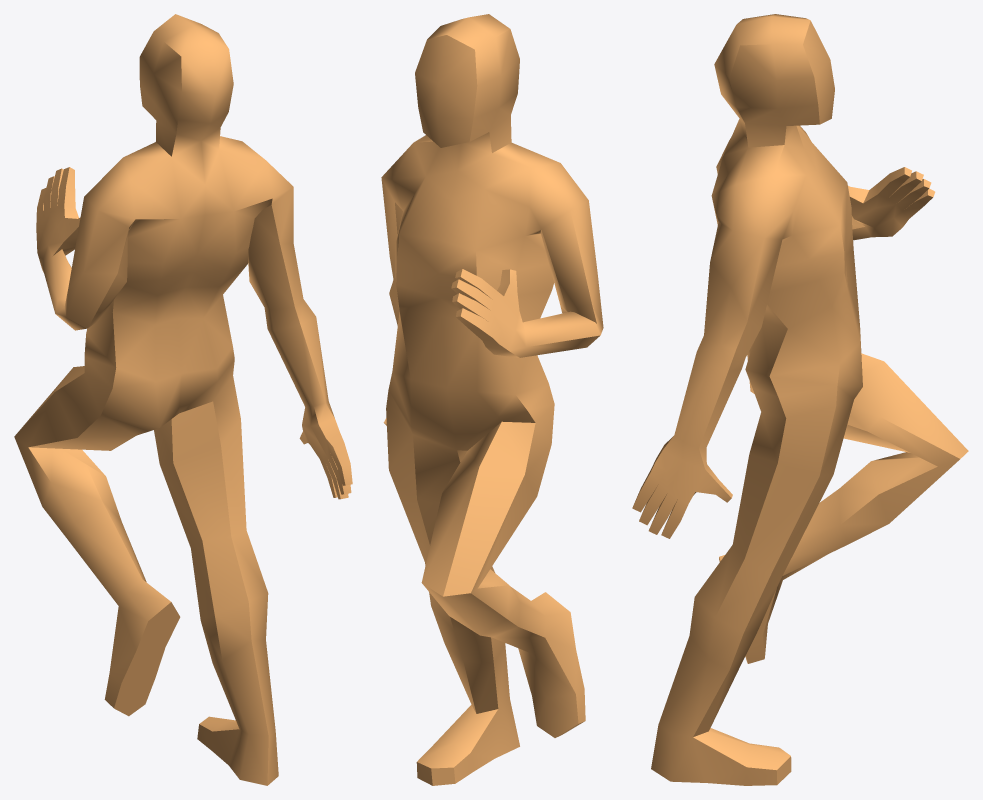
Rendered from human22.obj.
3 renders of one model, left to right at view 1: azimuth 30°, elevation 25°; view 2: azimuth 150°, elevation 25°; view 3: azimuth 270°, elevation 25°, orthographic. The views are drawn at different scales.
Visible parts, largest first — view 1: HumanMale; view 2: HumanMale; view 3: HumanMale.
Boxes of the visible parts, <box> form: HumanMale: <box>14,14,352,785</box>; HumanMale: <box>381,14,603,785</box>; HumanMale: <box>632,14,968,785</box>.
Size of the model in its own units: 0.6095 by 1.82 by 0.7451.
